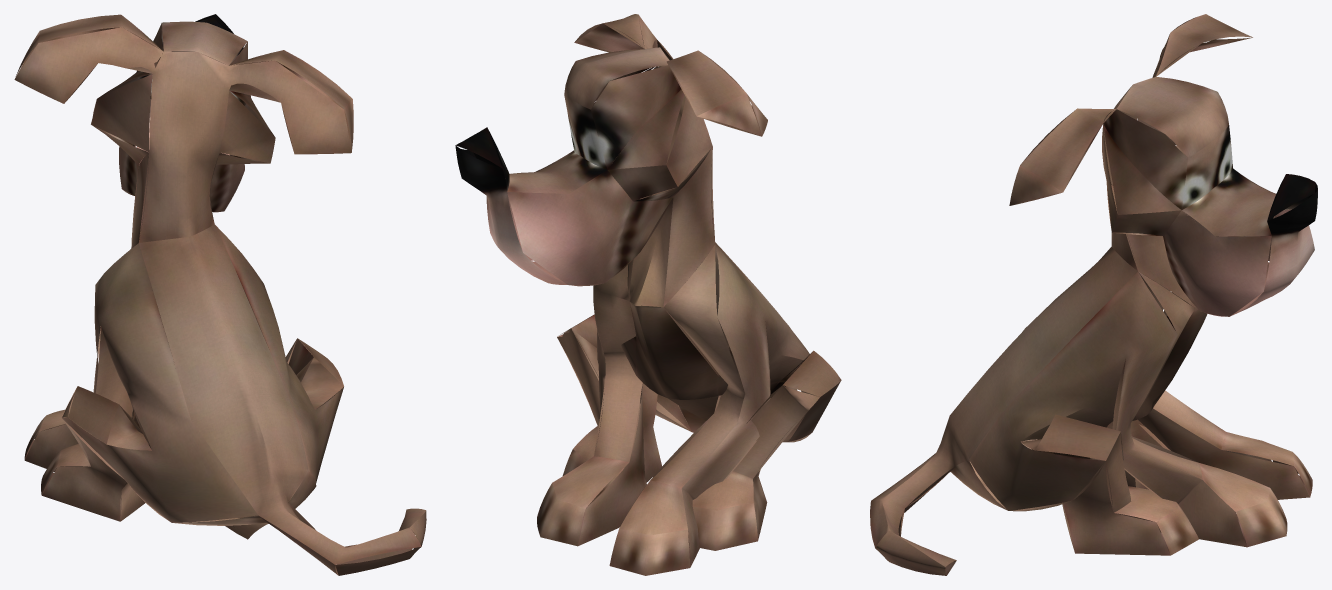
Rendered from dog.glb.
The picture shows the model from 3 angles, left to right: view 1: azimuth 30°, elevation 25°; view 2: azimuth 150°, elevation 25°; view 3: azimuth 270°, elevation 25°; orthographic projection. The views are drawn at different scales.
Parts seen in each view (by area): view 1: dog; view 2: dog; view 3: dog.
Boxes of the visible parts, x1,y1,x2,y2 form: dog: (14,14,426,575); dog: (455,14,841,575); dog: (870,14,1317,575).
Bounding box in the file's own units: 0.5113 × 0.8157 × 0.7203.
1 material, 1 textured.
